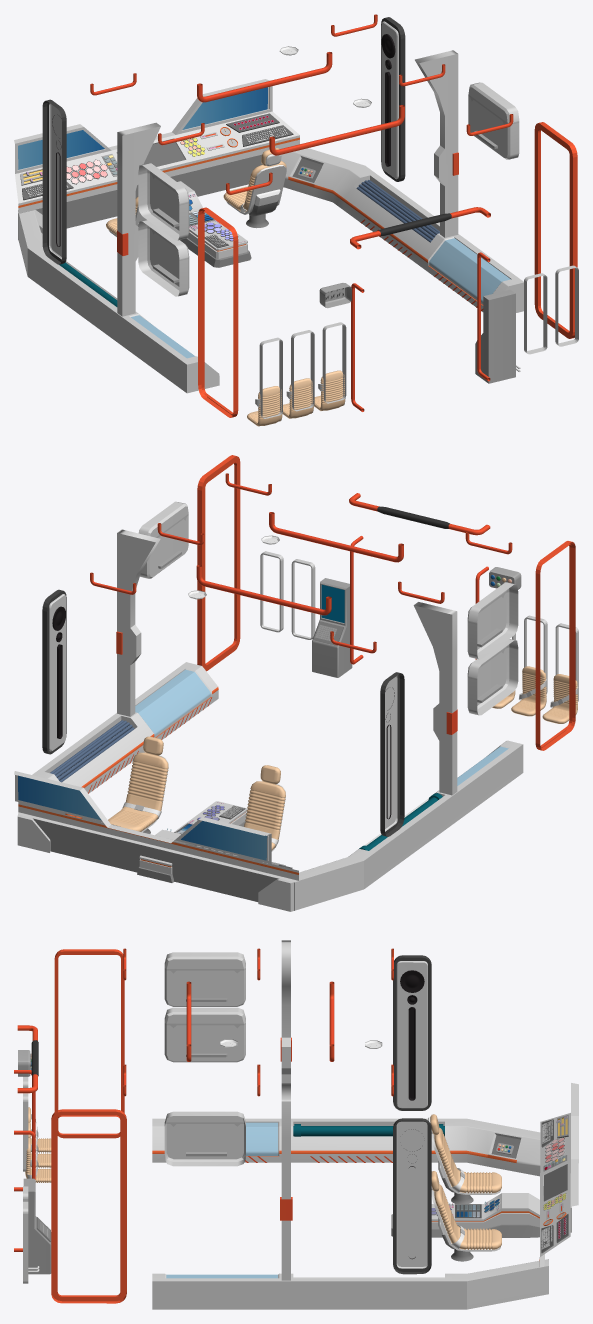
File: space_inside.fbx
The picture shows the model from 3 angles, top to bottom: view 1: azimuth 30°, elevation 25°; view 2: azimuth 150°, elevation 25°; view 3: azimuth 270°, elevation 25°; orthographic projection.
Parts seen in each view (by area): view 1: interior8_Mesh.128, interior22_Mesh.147, interior20_Mesh.143, interior27_Mesh.120, interior24_Mesh.122, interior3_Mesh.133, interior10_Mesh.145, interior14_Mesh.146, interior1_Mesh.148, interior2_Mesh.139, interior31_Mesh.104; view 2: interior22_Mesh.147, interior8_Mesh.128, interior20_Mesh.143, interior27_Mesh.120, interior24_Mesh.122, interior3_Mesh.133, interior1_Mesh.148, interior10_Mesh.145, interior14_Mesh.146, interior9_Mesh.127, interior2_Mesh.139; view 3: interior22_Mesh.147, interior24_Mesh.122, interior3_Mesh.133, interior20_Mesh.143, interior8_Mesh.128, interior27_Mesh.120, interior1_Mesh.148, interior9_Mesh.127, interior10_Mesh.145, interior6_Mesh.132, interior14_Mesh.146.
Boxes of the visible parts, x1=… form: interior8_Mesh.128: x1=14, y1=79, x2=299, y2=267; interior22_Mesh.147: x1=18, y1=148, x2=523, y2=393; interior20_Mesh.143: x1=90, y1=14, x2=578, y2=418; interior27_Mesh.120: x1=117, y1=50, x2=458, y2=316; interior24_Mesh.122: x1=138, y1=82, x2=519, y2=296; interior3_Mesh.133: x1=42, y1=17, x2=405, y2=264; interior10_Mesh.145: x1=475, y1=289, x2=515, y2=383; interior14_Mesh.146: x1=247, y1=370, x2=345, y2=426; interior1_Mesh.148: x1=223, y1=148, x2=286, y2=228; interior2_Mesh.139: x1=356, y1=180, x2=439, y2=242; interior31_Mesh.104: x1=319, y1=283, x2=351, y2=308; interior22_Mesh.147: x1=17, y1=662, x2=523, y2=911; interior8_Mesh.128: x1=14, y1=771, x2=298, y2=910; interior20_Mesh.143: x1=90, y1=455, x2=578, y2=750; interior27_Mesh.120: x1=116, y1=529, x2=457, y2=795; interior24_Mesh.122: x1=138, y1=501, x2=518, y2=715; interior3_Mesh.133: x1=42, y1=589, x2=404, y2=836; interior1_Mesh.148: x1=108, y1=736, x2=168, y2=833; interior10_Mesh.145: x1=312, y1=578, x2=352, y2=677; interior14_Mesh.146: x1=492, y1=666, x2=578, y2=723; interior9_Mesh.127: x1=244, y1=765, x2=285, y2=851; interior2_Mesh.139: x1=50, y1=720, x2=134, y2=782; interior22_Mesh.147: x1=152, y1=1118, x2=548, y2=1309; interior24_Mesh.122: x1=164, y1=952, x2=245, y2=1166; interior3_Mesh.133: x1=393, y1=955, x2=431, y2=1274; interior20_Mesh.143: x1=14, y1=948, x2=393, y2=1303; interior8_Mesh.128: x1=391, y1=1083, x2=578, y2=1267; interior27_Mesh.120: x1=280, y1=940, x2=292, y2=1280; interior1_Mesh.148: x1=431, y1=1171, x2=501, y2=1261; interior9_Mesh.127: x1=428, y1=1114, x2=501, y2=1203; interior10_Mesh.145: x1=23, y1=1178, x2=51, y2=1274; interior6_Mesh.132: x1=293, y1=1124, x2=444, y2=1136; interior14_Mesh.146: x1=25, y1=1107, x2=51, y2=1182.
Size of the model in its own units: 450 by 272 by 650.
